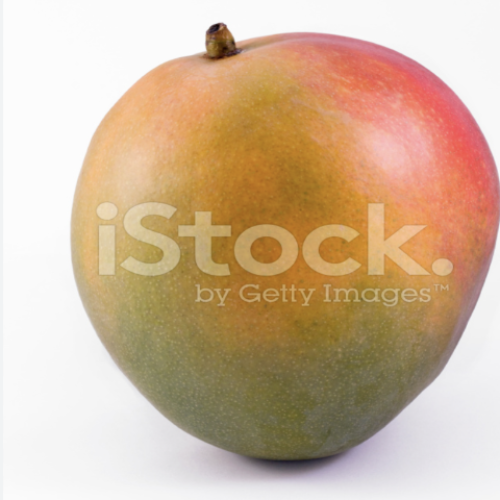mango: (40, 3, 499, 497)
